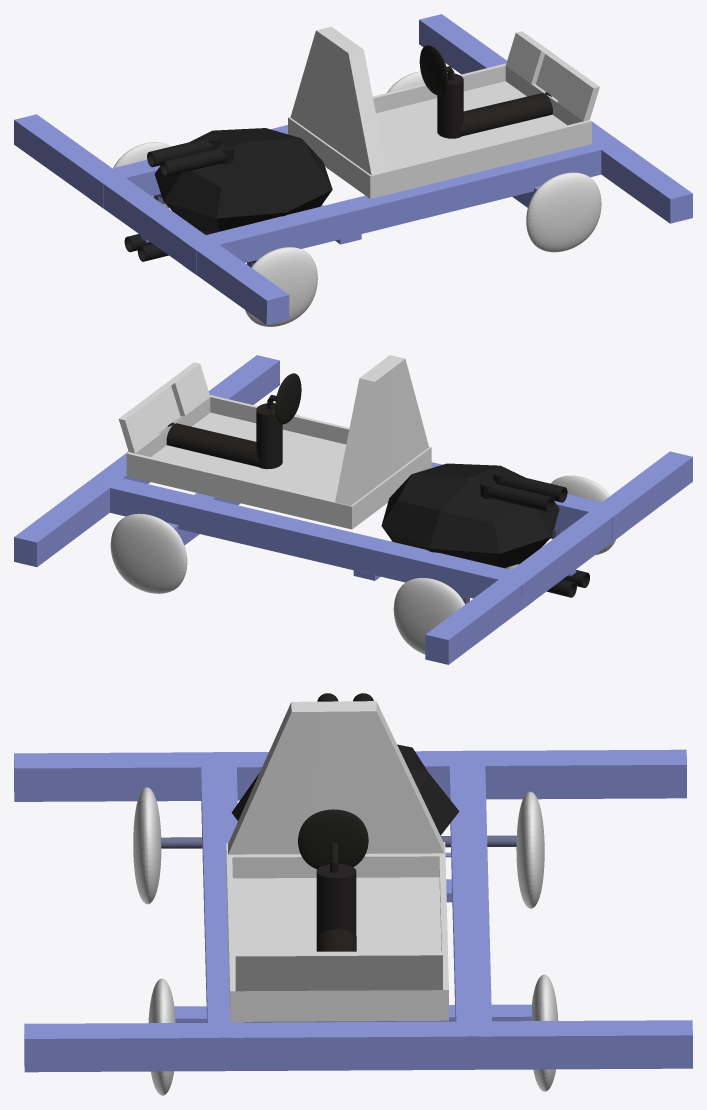
Rendered from Player.fbx.
The picture shows the model from 3 angles, top to bottom: view 1: azimuth 30°, elevation 25°; view 2: azimuth 150°, elevation 25°; view 3: azimuth 270°, elevation 25°; orthographic projection. The views are drawn at different scales.
Visible parts, largest first — view 1: Cube, Cube.008, Cube.007, Cube.001, Cube.006, Cylinder.010, Cylinder.009, Cube.009, Cylinder.005, Cylinder.006, Cube.005; view 2: Cube, Cube.008, Cube.007, Cube.004, Cube.005, Cylinder.010, Cylinder.009, Cylinder.006, Cube.009, Cube.006, Cylinder.005; view 3: Cube, Cube.008, Cube.009, Cube.005, Cube.006, Cylinder.009, Cube.007, Cube.004, Cube.001, Cylinder, Cylinder.010.
Part boxes in pixels (x1,y1,x2,y2): Cube: (14, 14, 692, 324); Cube.008: (288, 26, 599, 198); Cube.007: (154, 128, 332, 233); Cube.001: (526, 172, 601, 252); Cube.006: (245, 247, 317, 326); Cylinder.010: (459, 92, 552, 136); Cylinder.009: (437, 73, 463, 138); Cube.009: (419, 45, 447, 95); Cylinder.005: (160, 147, 227, 176); Cylinder.006: (147, 137, 214, 167); Cube.005: (113, 142, 170, 208); Cube: (14, 355, 692, 664); Cube.008: (118, 355, 431, 529); Cube.007: (381, 463, 559, 568); Cube.004: (110, 513, 187, 593); Cube.005: (393, 578, 465, 654); Cylinder.010: (166, 422, 262, 466); Cylinder.009: (256, 403, 282, 469); Cylinder.006: (486, 482, 554, 512); Cube.009: (275, 373, 301, 424); Cube.006: (551, 475, 615, 555); Cylinder.005: (500, 473, 567, 502); Cube: (14, 749, 692, 1072); Cube.008: (226, 701, 448, 1021); Cube.009: (298, 809, 368, 869); Cube.005: (516, 791, 544, 908); Cube.006: (133, 787, 161, 904); Cylinder.009: (316, 864, 356, 937); Cube.007: (231, 744, 459, 835); Cube.004: (531, 974, 558, 1091); Cube.001: (148, 978, 175, 1095); Cylinder: (161, 835, 516, 848); Cylinder.010: (316, 929, 356, 951).
Size of the model in its own units: 383 by 170 by 378.
